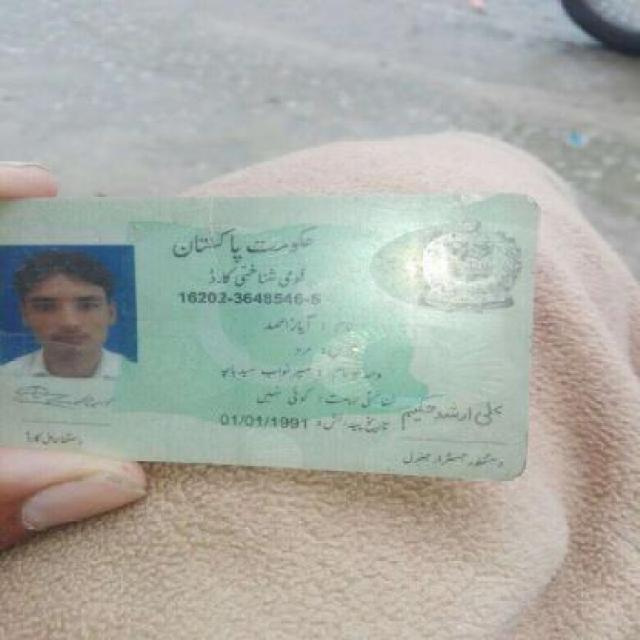Front: (6, 190, 542, 488)
